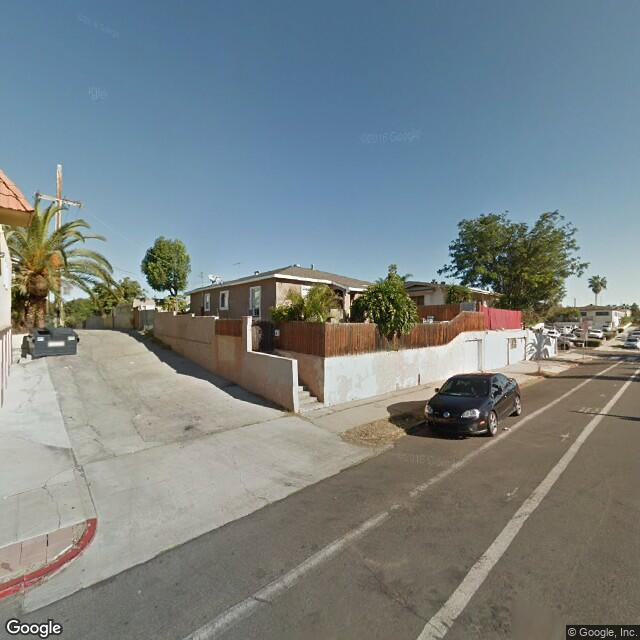litter: (497, 419, 518, 435)
